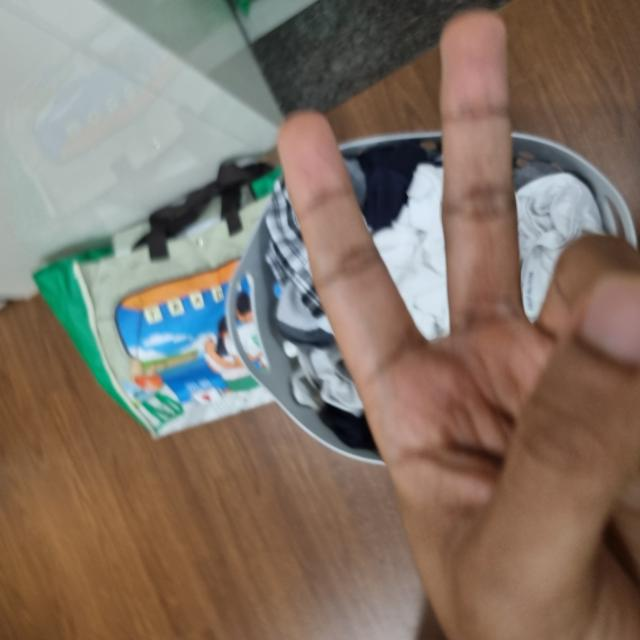Scissors: (0, 282, 638, 639)
